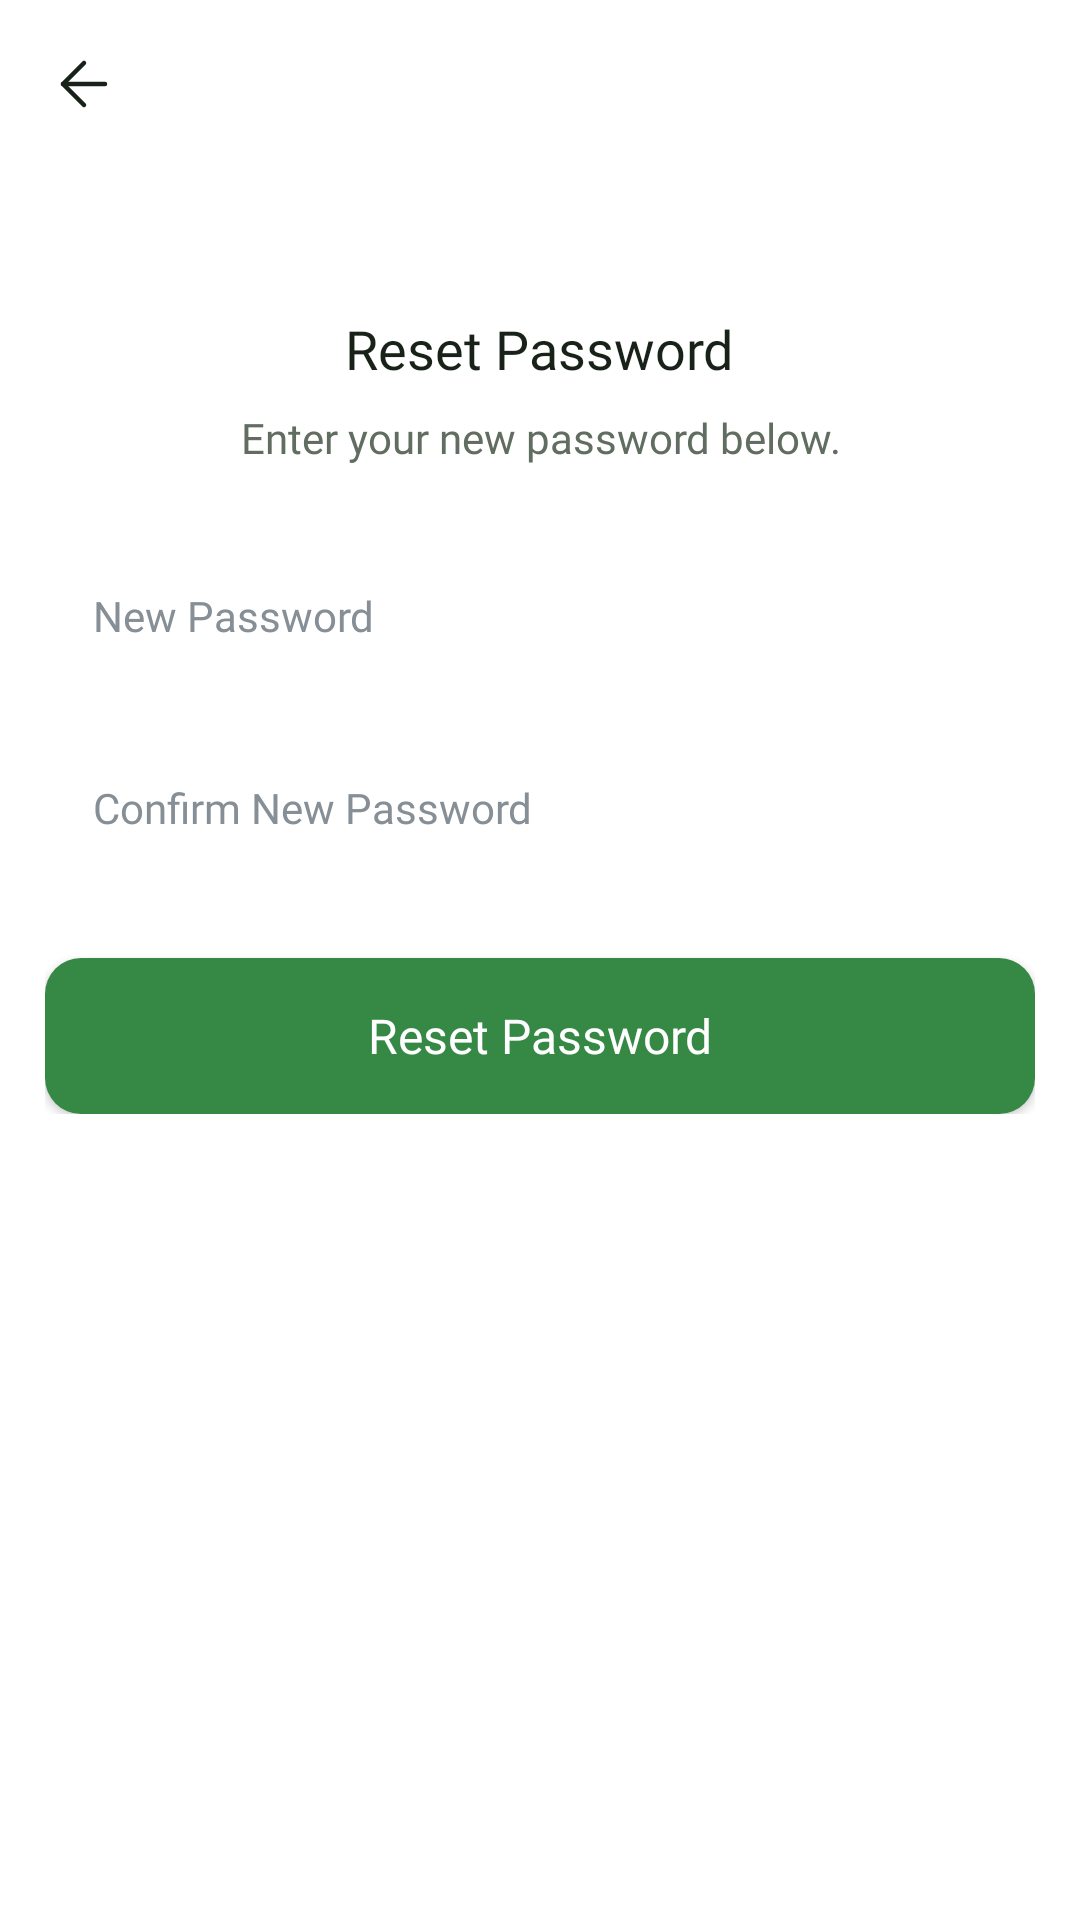

Icons on this 1080 × 1920 Android screen, each with its box as rect(x1, y1, x2, y2):
Back: rect(60, 60, 107, 108)
